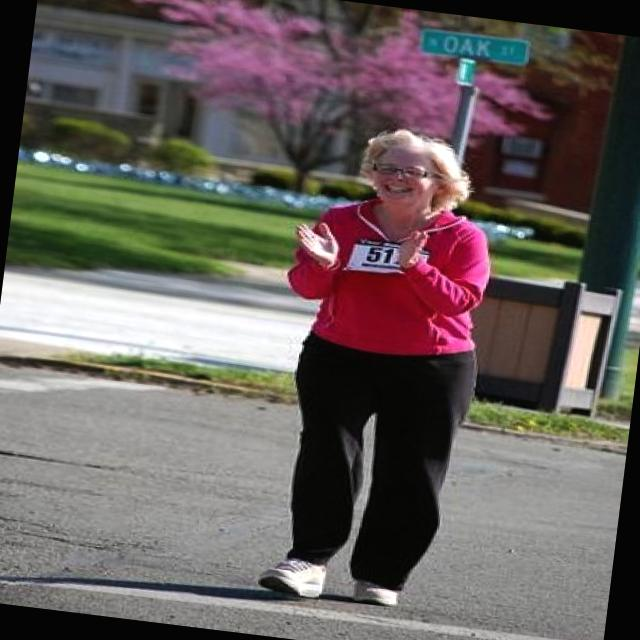no_vest: (292, 197, 510, 364)
